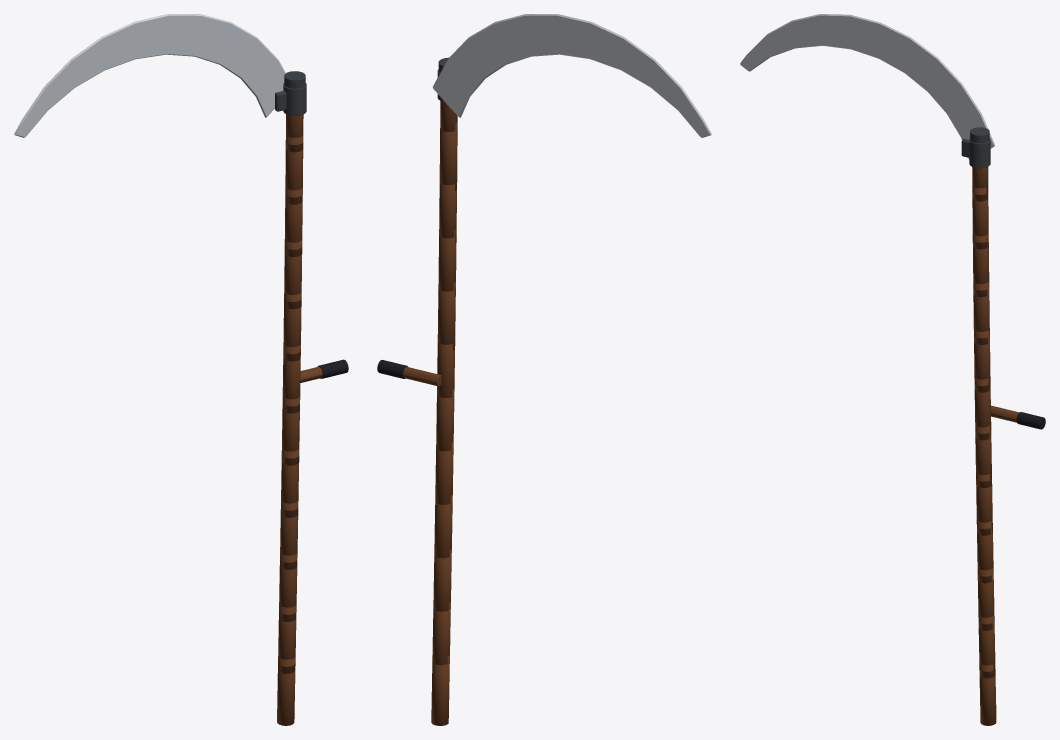
Rendered from scythe.glb.
3 views of the same model, side by side, from view 1: azimuth 30°, elevation 25°; view 2: azimuth 150°, elevation 25°; view 3: azimuth 330°, elevation 25° (orthographic). The views are drawn at different scales.
Parts seen in each view (by area): view 1: blade, snath0, snath7, snath9, snath5, snath1, snath3, snath2, snath10, snath4, snath8, snath6 (+2 smaller); view 2: blade, snath0, snath10, snath7, snath4, snath2, snath3, snath1, snath5, snath8, snath9, snath6; view 3: blade, snath0, snath1, snath10, snath7, snath5, snath8, snath2, snath6, snath3, snath4, snath9 (+1 smaller).
Part boxes in pixels (left/top/right/bottom): blade: left=14, top=14, right=285, bottom=137; snath0: left=277, top=657, right=295, bottom=725; snath7: left=283, top=292, right=301, bottom=361; snath9: left=284, top=187, right=302, bottom=256; snath5: left=281, top=396, right=300, bottom=465; snath1: left=278, top=605, right=296, bottom=673; snath3: left=280, top=500, right=298, bottom=569; snath2: left=279, top=553, right=297, bottom=621; snath10: left=285, top=135, right=303, bottom=204; snath4: left=281, top=449, right=299, bottom=517; snath8: left=284, top=240, right=302, bottom=309; snath6: left=282, top=344, right=300, bottom=413; blade: left=433, top=14, right=711, bottom=137; snath0: left=431, top=655, right=449, bottom=725; snath10: left=439, top=122, right=457, bottom=190; snath7: left=437, top=281, right=455, bottom=350; snath4: left=435, top=442, right=453, bottom=509; snath2: left=433, top=548, right=451, bottom=617; snath3: left=434, top=494, right=452, bottom=562; snath1: left=432, top=601, right=450, bottom=669; snath5: left=436, top=387, right=454, bottom=454; snath8: left=438, top=228, right=456, bottom=294; snath9: left=439, top=174, right=457, bottom=243; snath6: left=437, top=335, right=455, bottom=401; blade: left=740, top=14, right=994, bottom=159; snath0: left=979, top=663, right=996, bottom=725; snath1: left=978, top=615, right=995, bottom=678; snath10: left=972, top=186, right=988, bottom=249; snath7: left=974, top=329, right=990, bottom=392; snath5: left=975, top=425, right=991, bottom=487; snath8: left=973, top=282, right=989, bottom=344; snath2: left=977, top=568, right=994, bottom=630; snath6: left=974, top=377, right=991, bottom=440; snath3: left=976, top=520, right=993, bottom=583; snath4: left=976, top=472, right=992, bottom=535; snath9: left=972, top=234, right=989, bottom=297.
Bounding box in the file's own units: 0.7774 × 1.66 × 0.0798.
